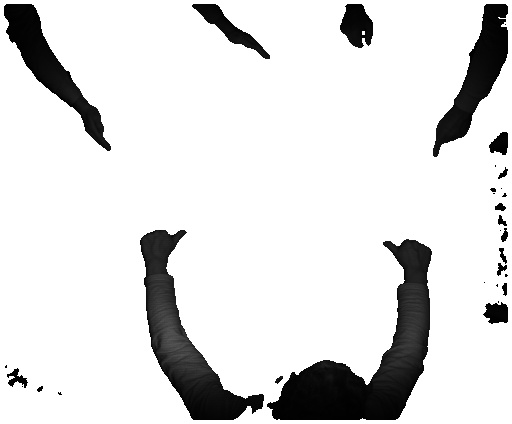hand: (376, 232, 431, 276), (136, 224, 191, 266), (432, 109, 473, 159), (336, 13, 375, 47)
spine: (226, 27, 271, 63), (82, 103, 111, 151)
